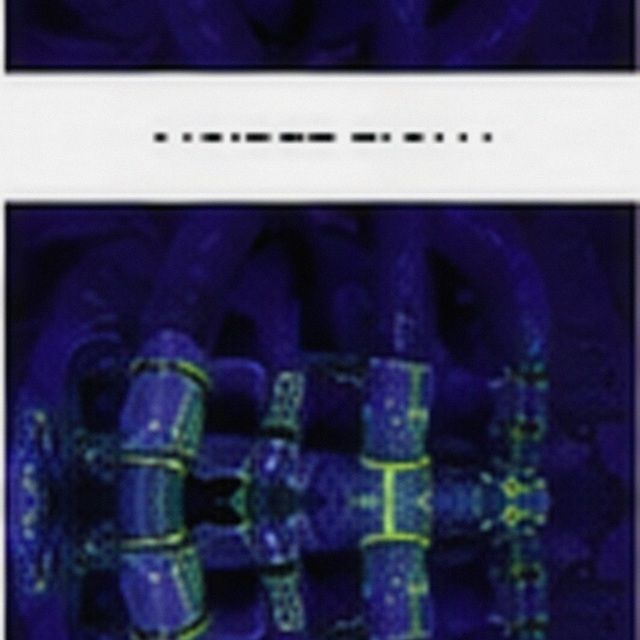hydraulic_oil_leak: (355, 364, 429, 585), (499, 470, 541, 530), (166, 399, 201, 453), (265, 403, 297, 429), (266, 574, 297, 599), (177, 547, 200, 578), (179, 364, 206, 378), (232, 489, 244, 513), (171, 528, 184, 542), (171, 461, 184, 475), (238, 520, 249, 532), (238, 470, 250, 481), (482, 473, 490, 481), (513, 429, 520, 438), (192, 383, 199, 391), (483, 521, 490, 528), (524, 469, 532, 475), (278, 389, 284, 394), (535, 365, 541, 370), (289, 385, 294, 390), (539, 382, 544, 387), (166, 477, 169, 485), (517, 416, 523, 420), (131, 455, 142, 457), (172, 496, 174, 504), (87, 452, 91, 456), (539, 422, 542, 427), (167, 518, 169, 522), (166, 554, 169, 556), (161, 504, 163, 507)
